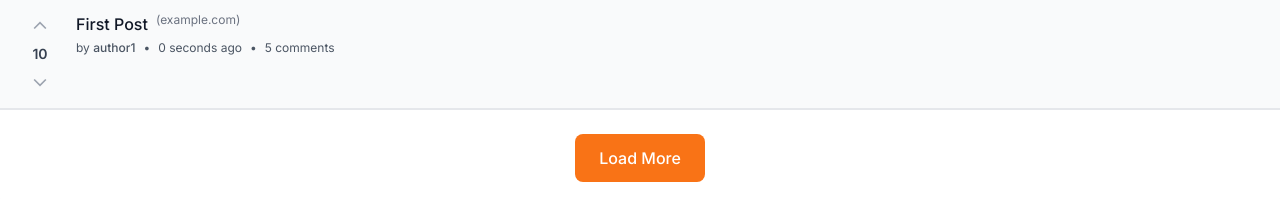
Test: PostList › Pagination › should show loading state on "Load More" button while fetching
Expected: the link "First Post" is shown, 76,12 -> 148,36
What coordinates should you click on to do the following:
click the button "Load More"
I would click on:
 (640, 158)
Its box is 575,134 -> 705,182.
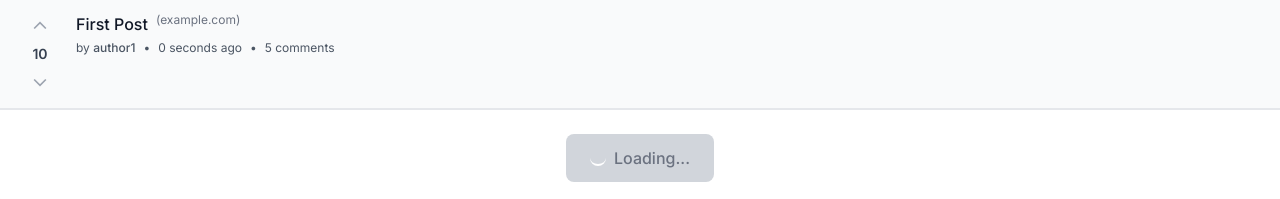
Now the text "Loading..." is shown, box 590,146 -> 690,170
